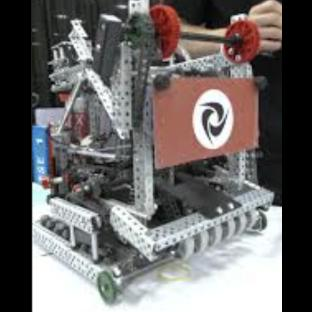Robot: (31, 0, 272, 304)
